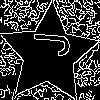J: (24, 29, 71, 58)
